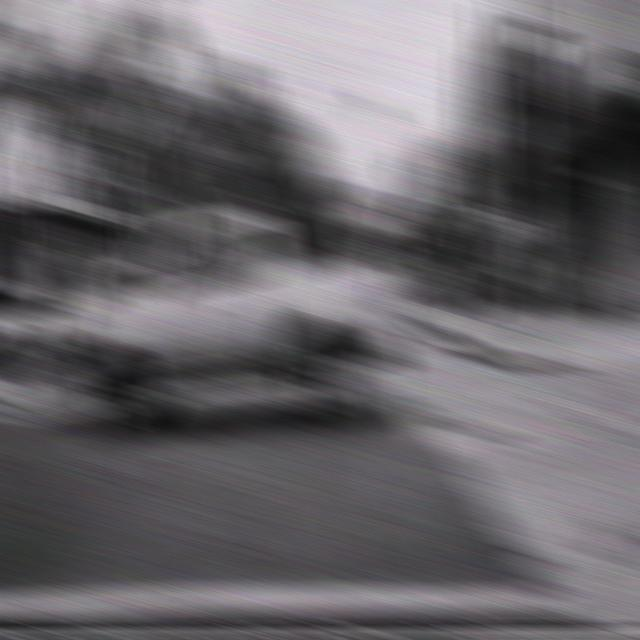speedLimit25: (442, 163, 482, 216)
